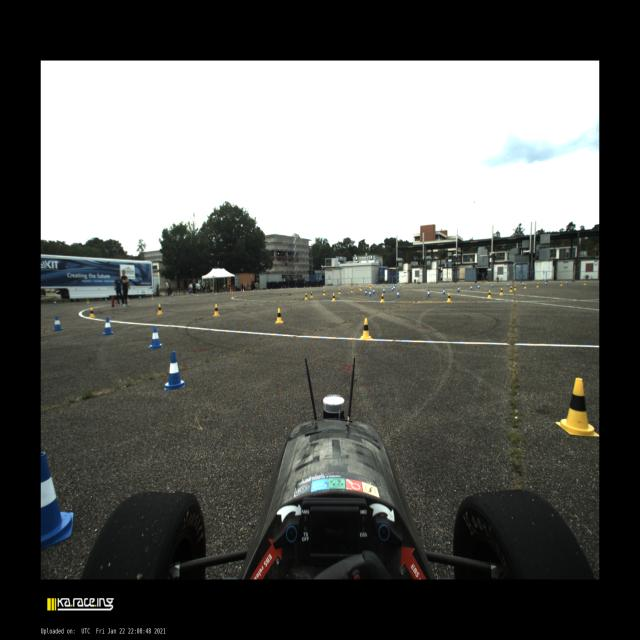blue_cone: (41, 451, 74, 552), (164, 350, 185, 391), (148, 326, 163, 350), (102, 318, 115, 336), (53, 316, 63, 330), (442, 288, 446, 295), (427, 289, 430, 297), (396, 290, 399, 298), (477, 283, 480, 290), (365, 289, 368, 296), (53, 300, 57, 305), (104, 297, 108, 302), (138, 295, 142, 300), (544, 280, 547, 286), (457, 286, 460, 292), (372, 288, 375, 294), (470, 285, 473, 290), (391, 286, 394, 291), (171, 292, 173, 298), (369, 290, 371, 296), (383, 287, 385, 293), (566, 280, 568, 285), (522, 281, 524, 286), (507, 282, 509, 287), (491, 283, 493, 288), (288, 286, 290, 290), (211, 291, 213, 294), (240, 289, 242, 292), (191, 293, 193, 296), (320, 285, 322, 288), (400, 283, 401, 288), (255, 288, 256, 291), (304, 286, 305, 289), (271, 288, 272, 290)
large_orange_cone: (230, 288, 232, 293), (243, 288, 244, 293)
yellow_cone: (555, 378, 599, 437), (360, 318, 372, 339), (275, 308, 284, 324), (213, 303, 220, 317), (88, 307, 96, 318), (157, 304, 163, 314), (446, 293, 452, 302), (487, 290, 492, 299), (499, 288, 504, 296), (380, 294, 384, 303), (332, 293, 336, 302), (304, 293, 308, 300), (86, 298, 90, 304), (310, 291, 313, 298), (151, 294, 154, 300), (536, 282, 539, 288), (514, 285, 517, 291), (323, 290, 326, 296), (338, 288, 341, 294), (560, 281, 563, 286), (524, 282, 526, 289), (584, 280, 586, 286), (510, 286, 512, 292), (351, 287, 353, 293), (215, 291, 217, 295), (267, 288, 269, 292), (296, 286, 298, 290), (253, 289, 255, 292), (128, 297, 129, 301), (232, 290, 233, 294), (281, 287, 282, 291), (197, 293, 198, 296), (310, 286, 311, 288), (324, 285, 324, 288)
